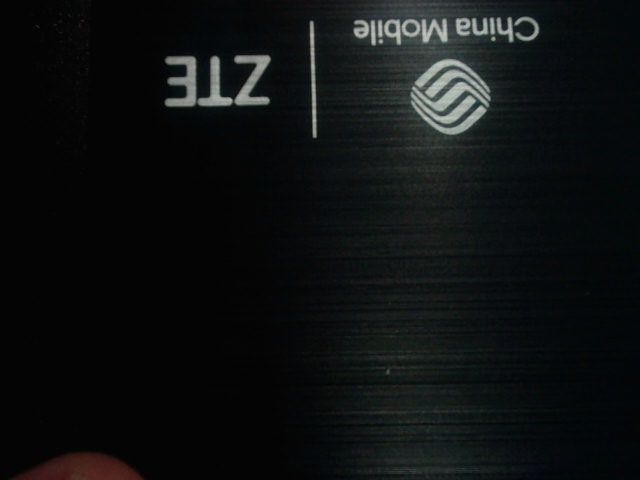AL_ZTEChinaMobile: (129, 13, 559, 145)
